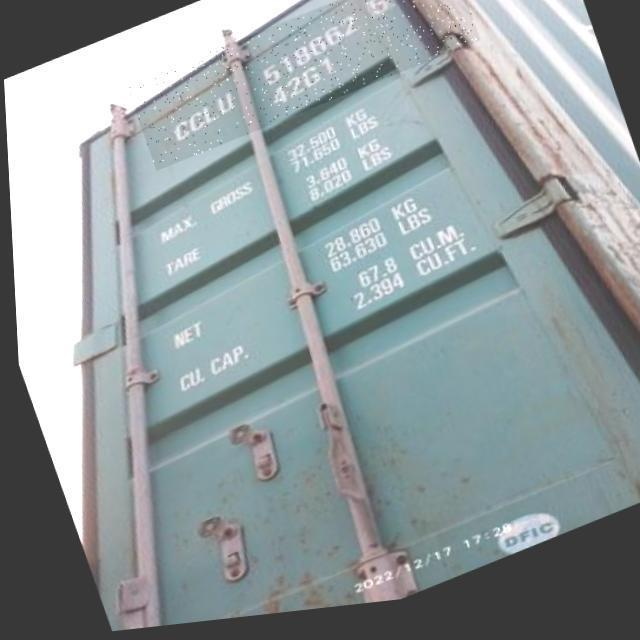container_number_h: (121, 0, 483, 176)
